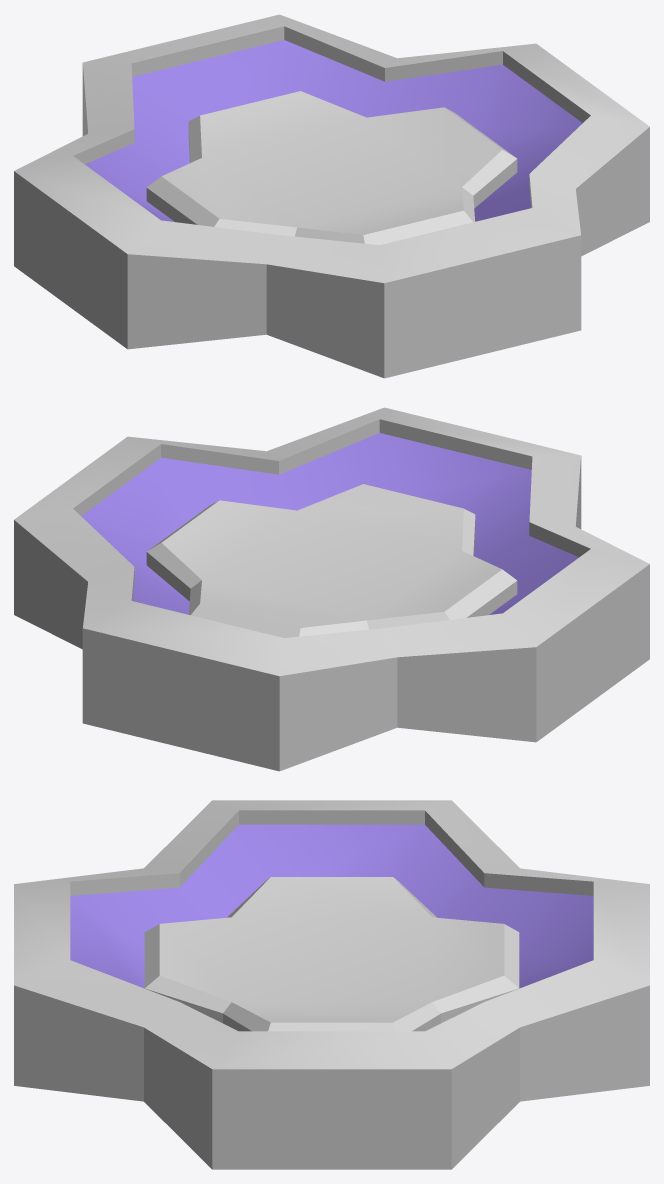
File: HyperCoin.fbx
3 views of the same model, one above another, from view 1: azimuth 30°, elevation 25°; view 2: azimuth 150°, elevation 25°; view 3: azimuth 270°, elevation 25° (orthographic). The views are drawn at different scales.
Visible parts, largest first — view 1: Cube; view 2: Cube; view 3: Cube.
Boxes of the visible parts, x1,y1,x2,y2 form: Cube: (14,14,649,378); Cube: (14,407,649,771); Cube: (14,800,649,1169).
Size of the model in its own units: 200 by 44.49 by 200.
